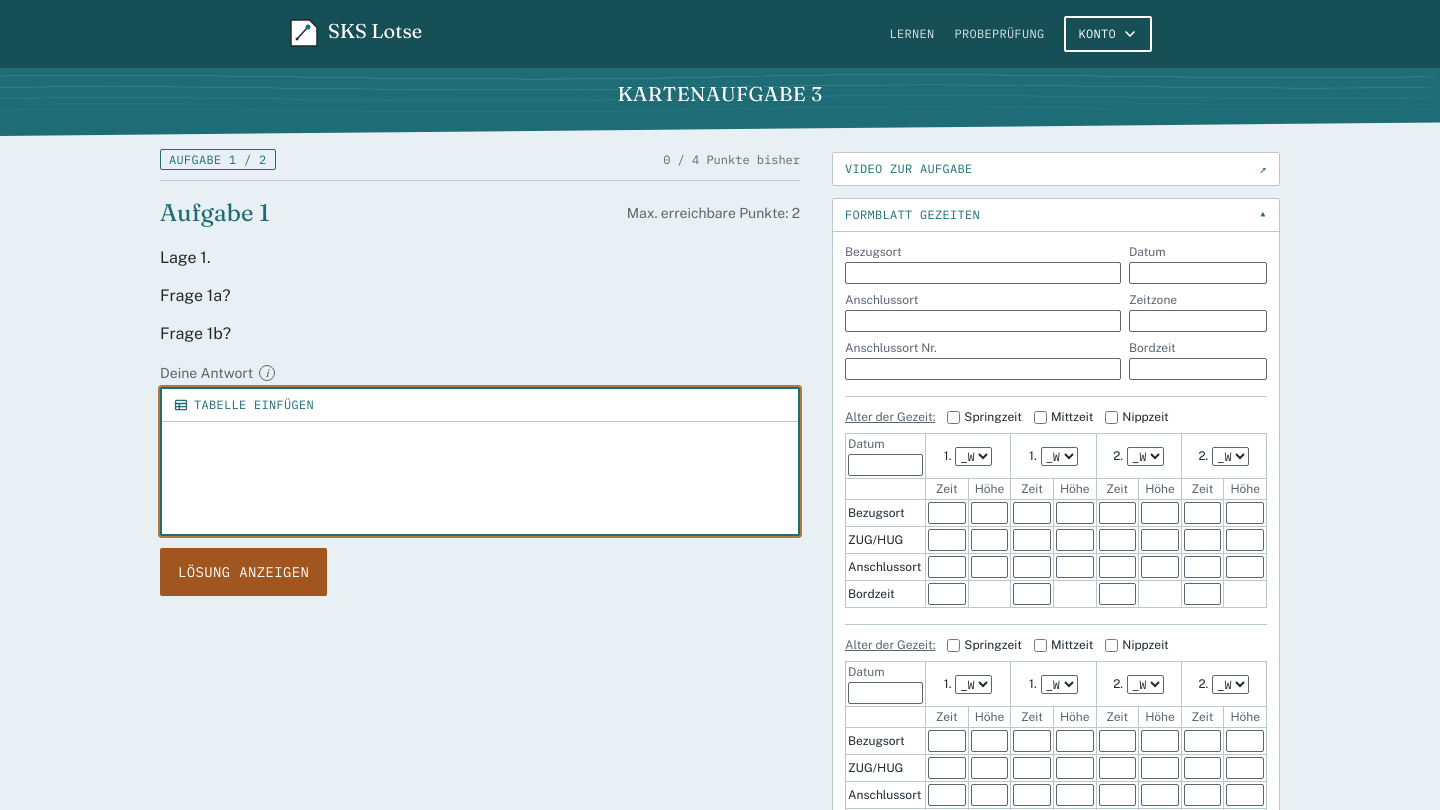
Scenario: ChartAttemptPage › reports a failed save and keeps the answer
This screenshot has width=1440, height=810.
In the text box labelled "Deine Antwort": (480, 478) [162, 422, 798, 534], type "HWZ"
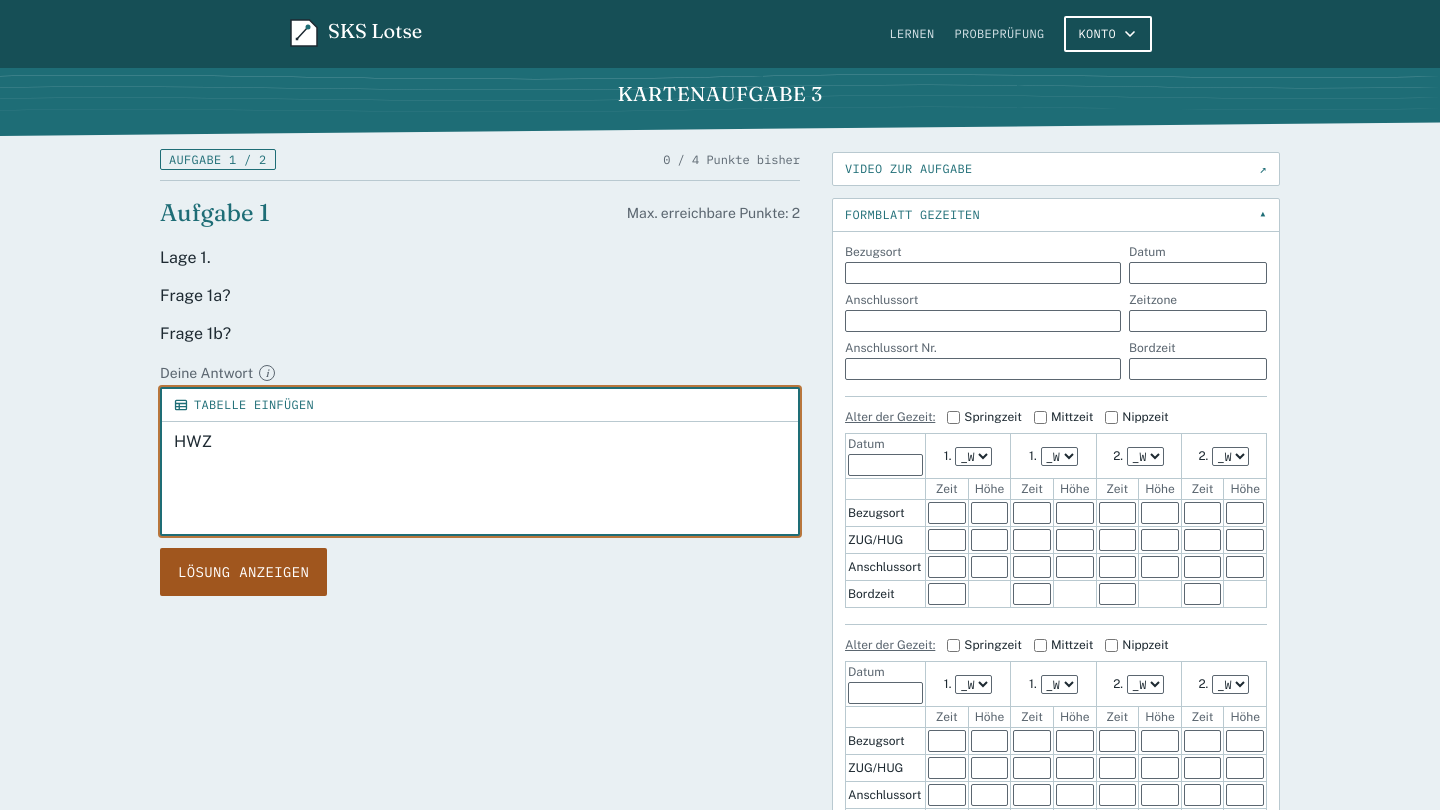
Click the button "Lösung anzeigen": (244, 572) [160, 548, 327, 596]
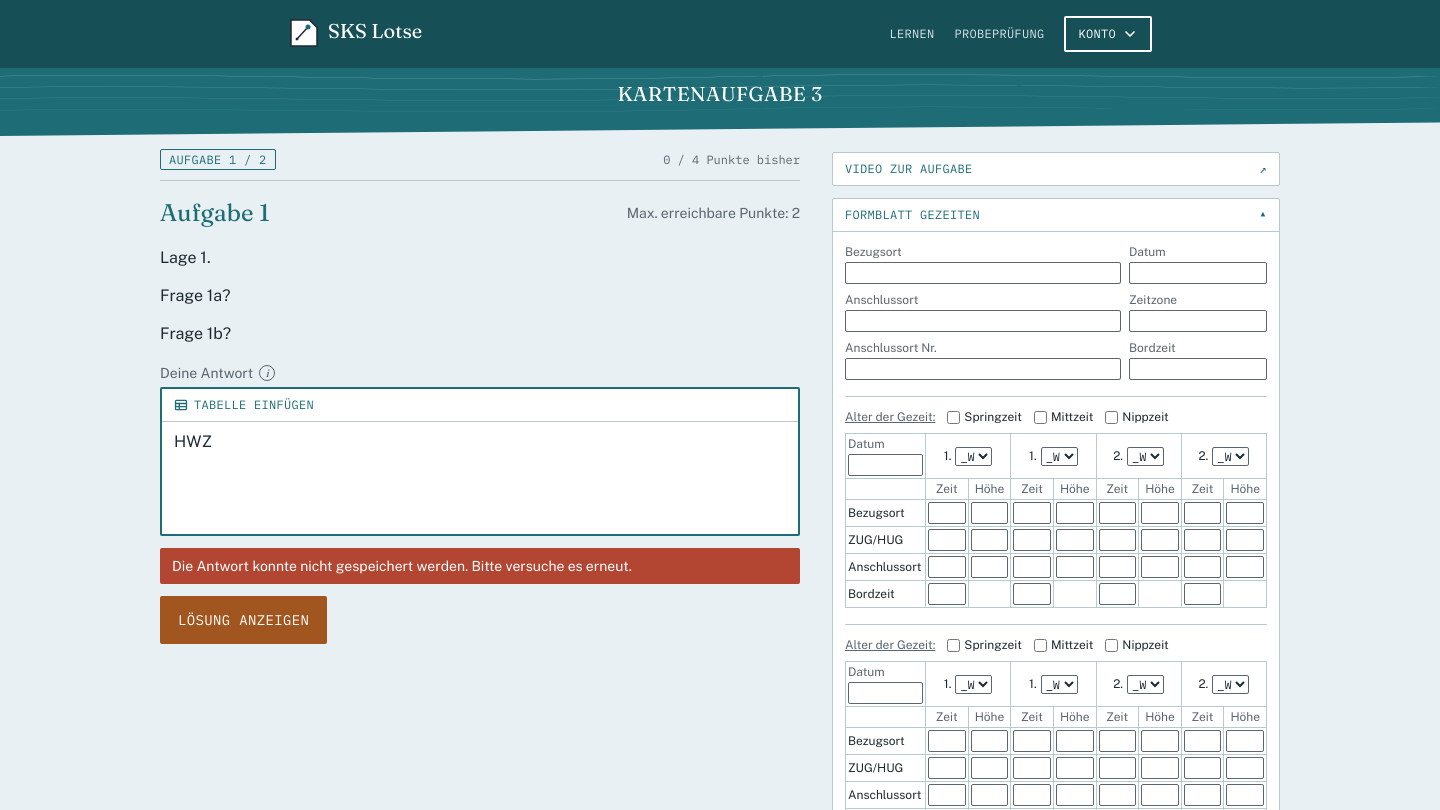
Check: the message shows "Die Antwort konnte nicht gespeichert werden.", box [172, 558, 632, 574]
